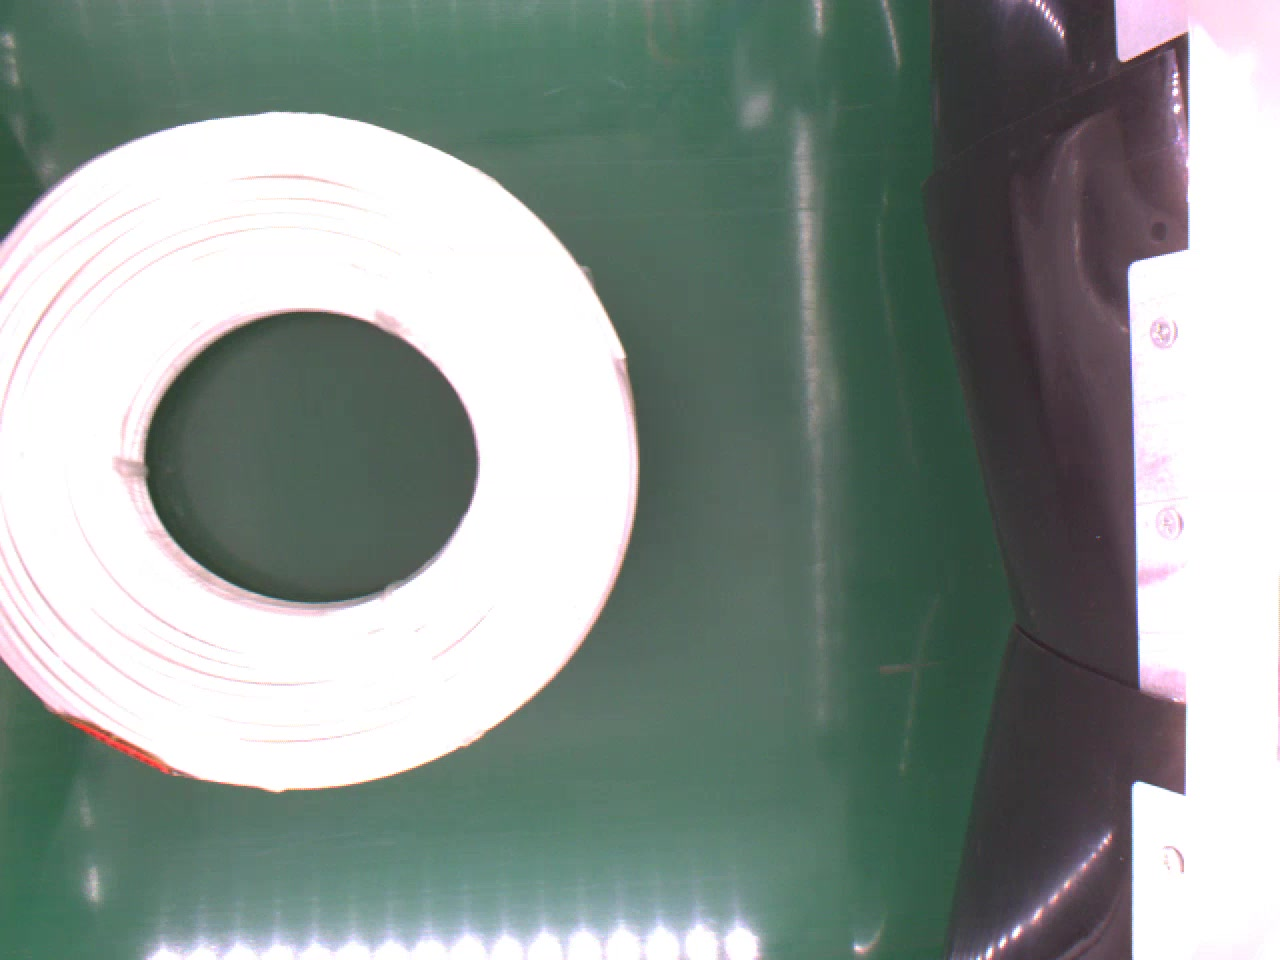white: (0, 98, 642, 800)
